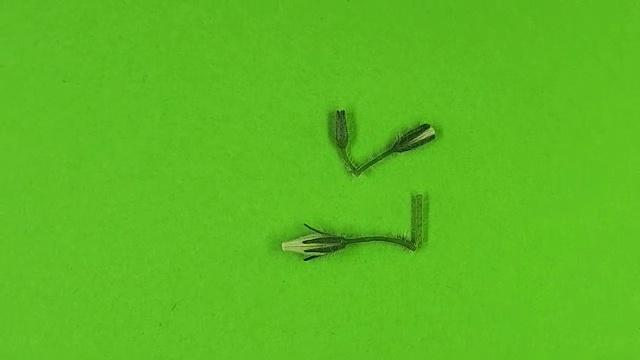Flower Bud: (280, 227, 346, 262), (391, 123, 438, 149), (335, 110, 349, 148)
